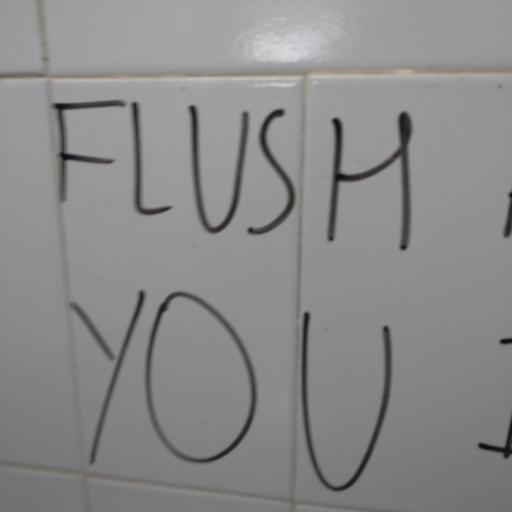stain: (60, 280, 411, 506), (36, 79, 432, 255), (476, 156, 512, 481)
